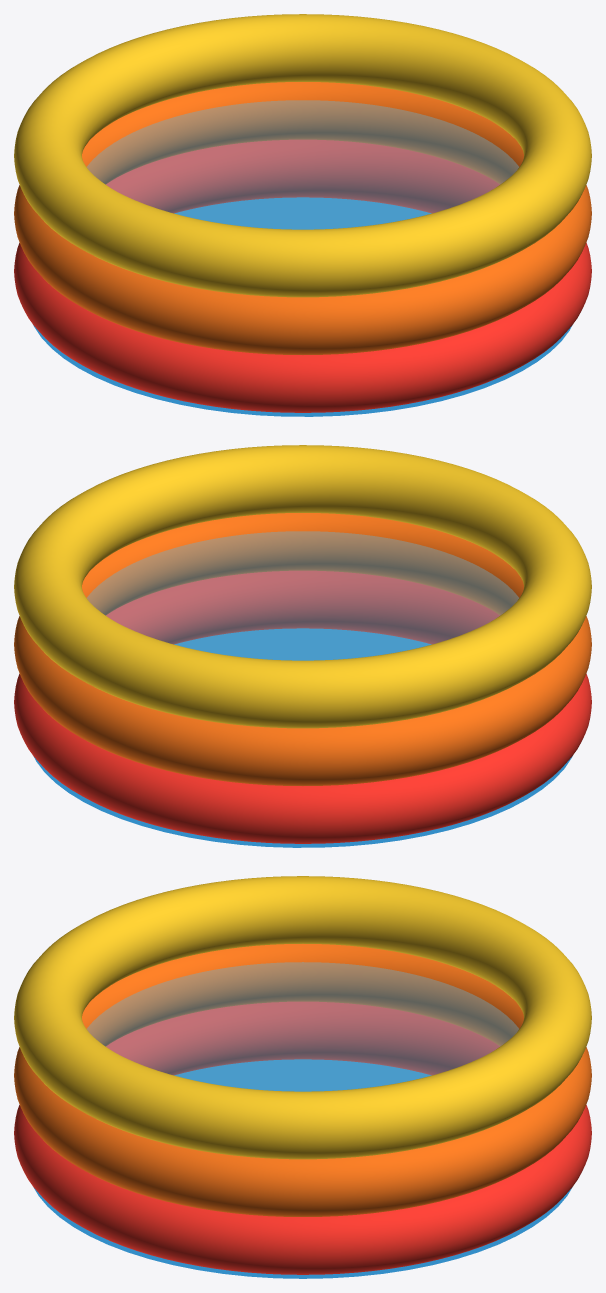
The model's file is kiddie_pool.glb.
3 renders of one model, top to bottom at view 1: azimuth 30°, elevation 25°; view 2: azimuth 150°, elevation 25°; view 3: azimuth 270°, elevation 25°, orthographic.
Parts seen in each view (by area): view 1: InflatableKiddiePool; view 2: InflatableKiddiePool; view 3: InflatableKiddiePool.
Part boxes in pixels (x1=…): InflatableKiddiePool: x1=14, y1=14, x2=591, y2=416; InflatableKiddiePool: x1=14, y1=445, x2=591, y2=847; InflatableKiddiePool: x1=14, y1=876, x2=591, y2=1278.
Bounding box in the file's own units: 2.72 × 0.92 × 2.72.
